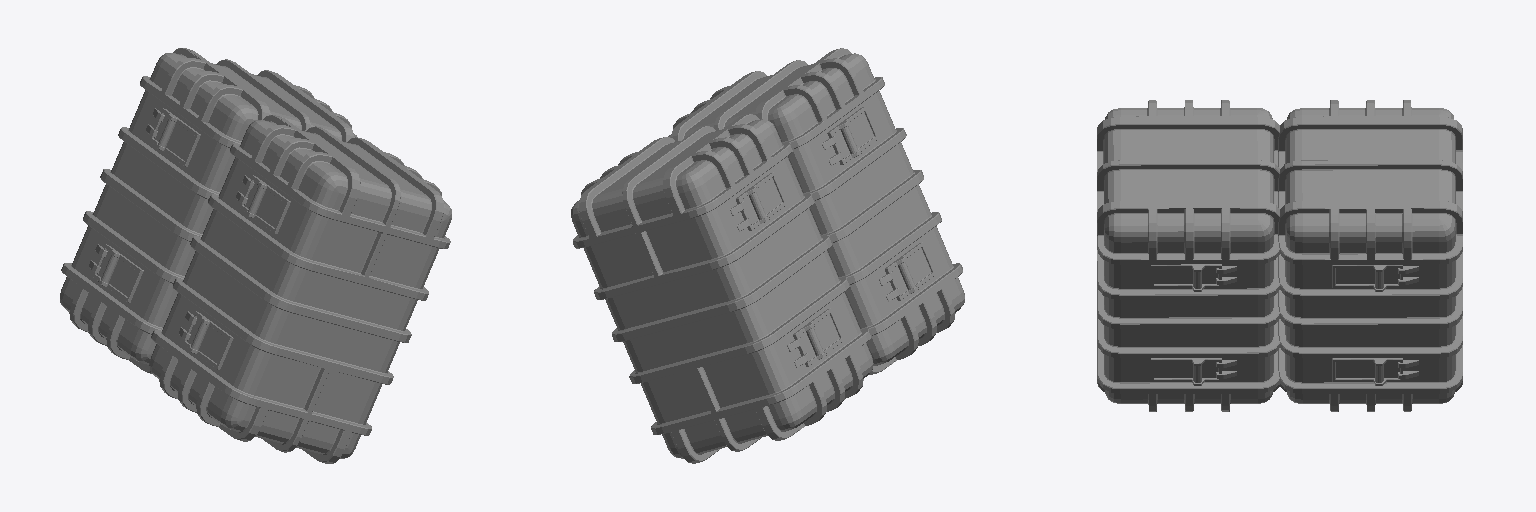
The model's file is caja2.obj.
The picture shows the model from 3 angles: view 1: azimuth 30°, elevation 25°; view 2: azimuth 150°, elevation 25°; view 3: azimuth 270°, elevation 25°; orthographic projection.
Visible parts, largest first — view 1: Box018; view 2: Box018; view 3: Box018.
Part boxes in pixels (left/top/right/bottom): Box018: left=60, top=48, right=451, bottom=463; Box018: left=571, top=48, right=964, bottom=463; Box018: left=1097, top=100, right=1462, bottom=411.
Bounding box in the file's own units: 52.04 × 61.73 × 67.87.